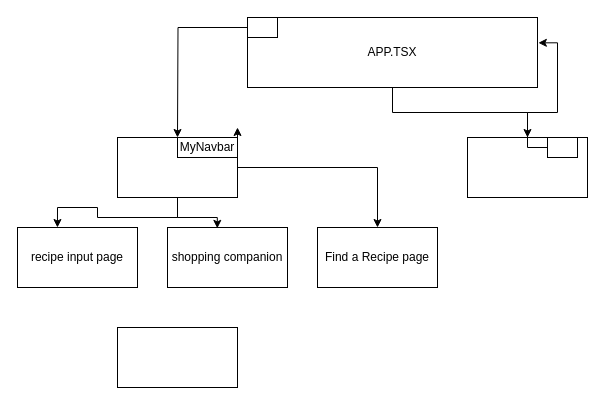
Image size: 605x405. Some labels were removed from this diagram. Here are the shapes that lost their labels. From the top down, the box of each, then its label:
(116, 136, 238, 198): Recipe colleciton page
(466, 136, 588, 198): LOGIN PAGE
